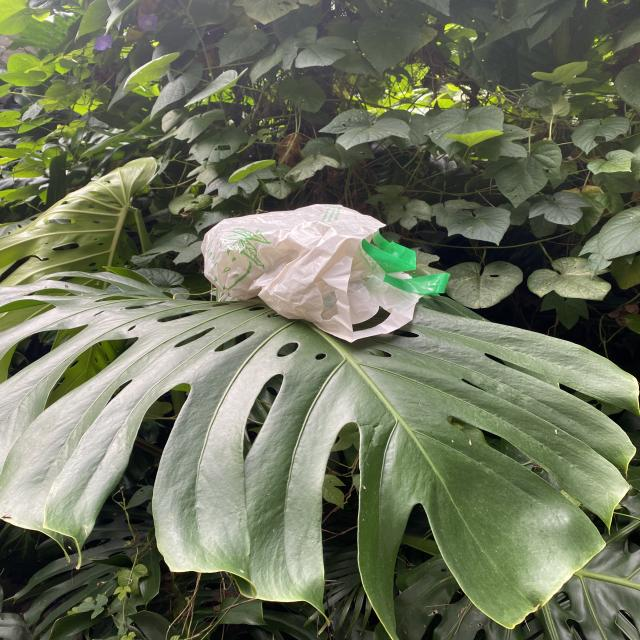bag: (201, 202, 459, 344)
